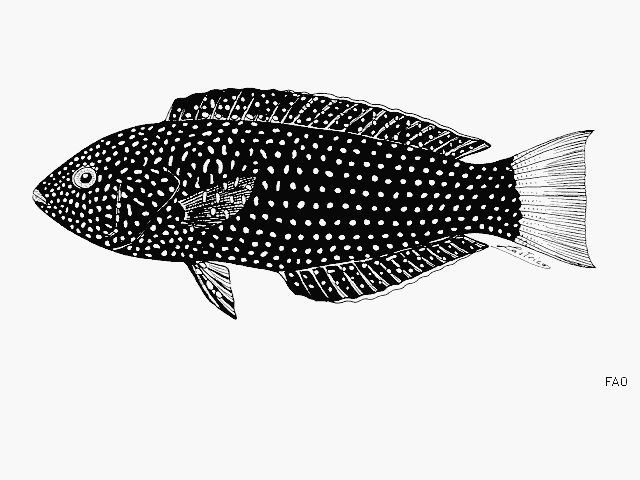fish: (30, 87, 598, 320)
